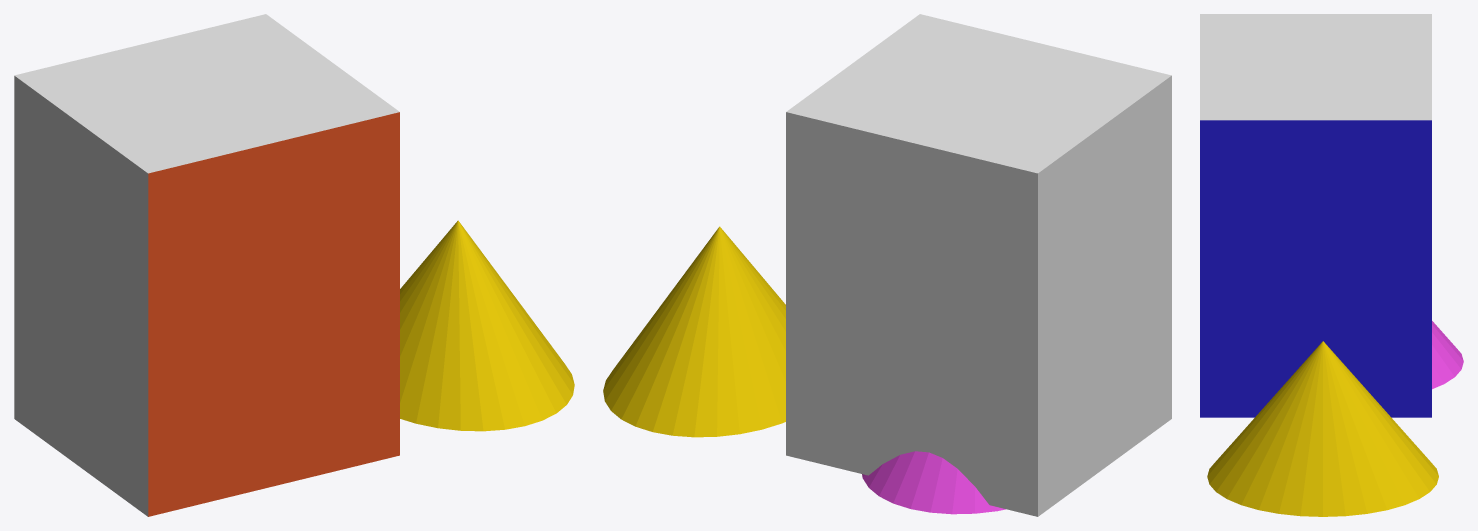
3 views of the same model, side by side, from view 1: azimuth 30°, elevation 25°; view 2: azimuth 150°, elevation 25°; view 3: azimuth 270°, elevation 25° (orthographic). The views are drawn at different scales.
Visible parts, largest first — view 1: Plane; view 2: Plane; view 3: Plane.
Boxes of the visible parts, x1=… form: Plane: x1=14, y1=14, x2=574, y2=516; Plane: x1=603, y1=14, x2=1171, y2=516; Plane: x1=1200, y1=14, x2=1463, y2=516.
Size of the model in its own units: 0.2519 by 0.1761 by 0.1395.
